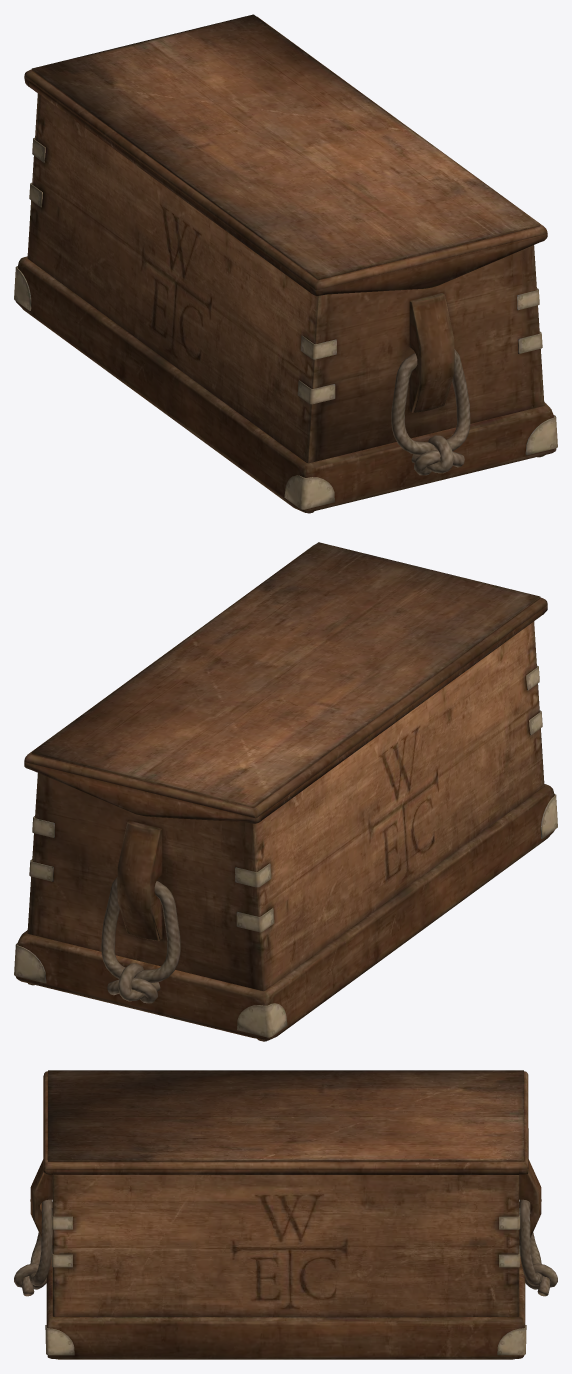
The model's file is crate.glb.
The picture shows the model from 3 angles, top to bottom: view 1: azimuth 30°, elevation 25°; view 2: azimuth 150°, elevation 25°; view 3: azimuth 270°, elevation 25°; orthographic projection. The views are drawn at different scales.
Parts seen in each view (by area): view 1: wooden_crate_02_crate; view 2: wooden_crate_02_crate; view 3: wooden_crate_02_crate.
Boxes of the visible parts, x1=… form: wooden_crate_02_crate: x1=14, y1=14, x2=557, y2=513; wooden_crate_02_crate: x1=14, y1=542, x2=557, y2=1041; wooden_crate_02_crate: x1=14, y1=1070, x2=557, y2=1359.
Size of the model in its own units: 0.5291 by 0.4639 by 1.17.
Materials: 1 (1 with a texture image).
